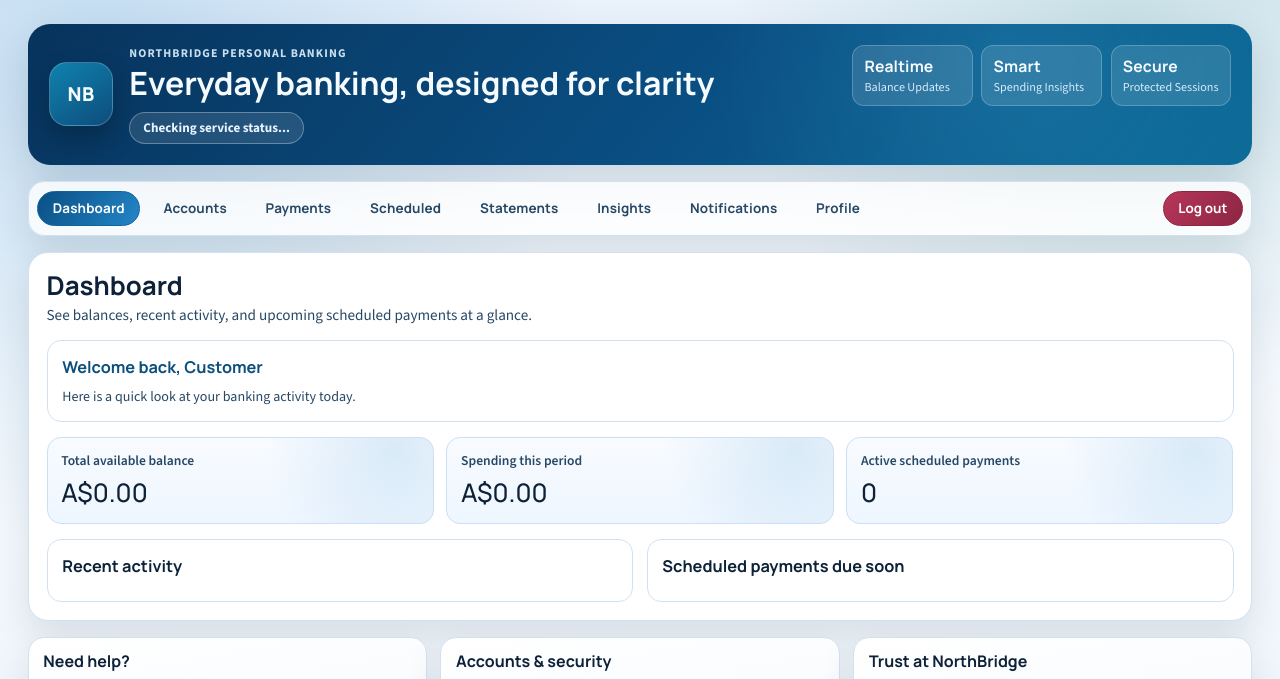
App › logs out and returns to sign-in navigation
This screenshot has width=1280, height=679.
Click the button "Log out": coordinates (1203, 208) [1163, 190, 1243, 226]
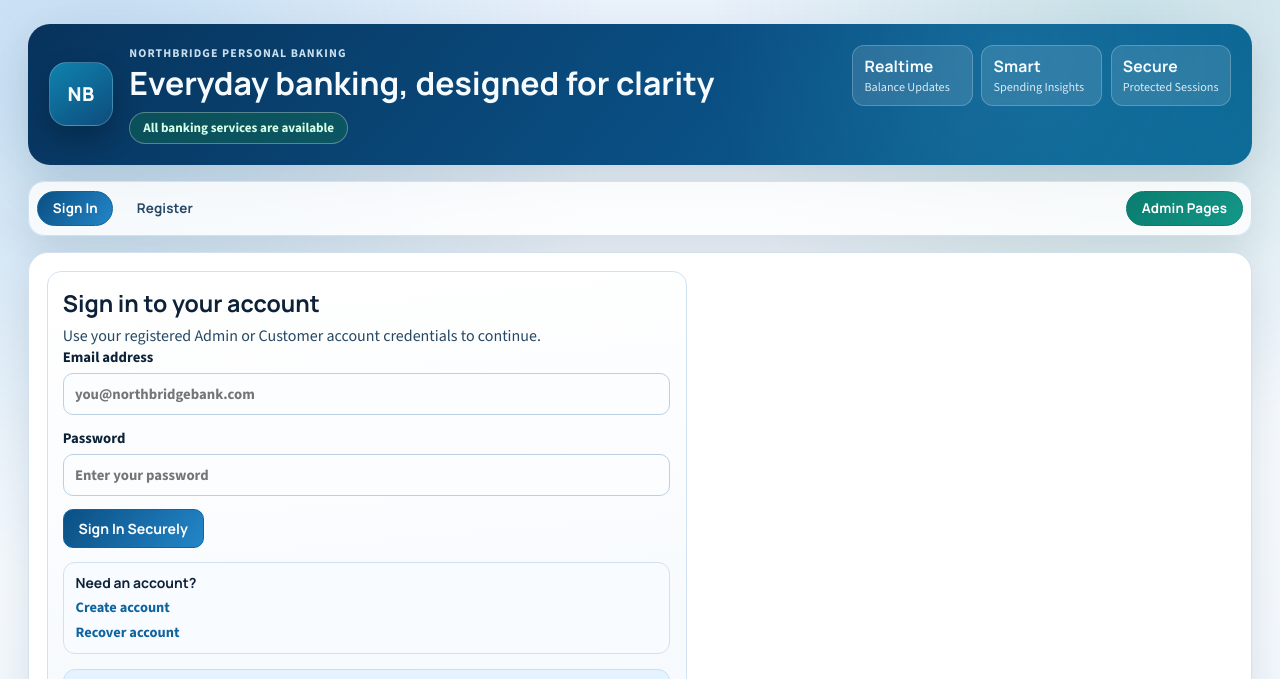
Expected: the link "Sign In" is shown, [37, 190, 113, 226]
